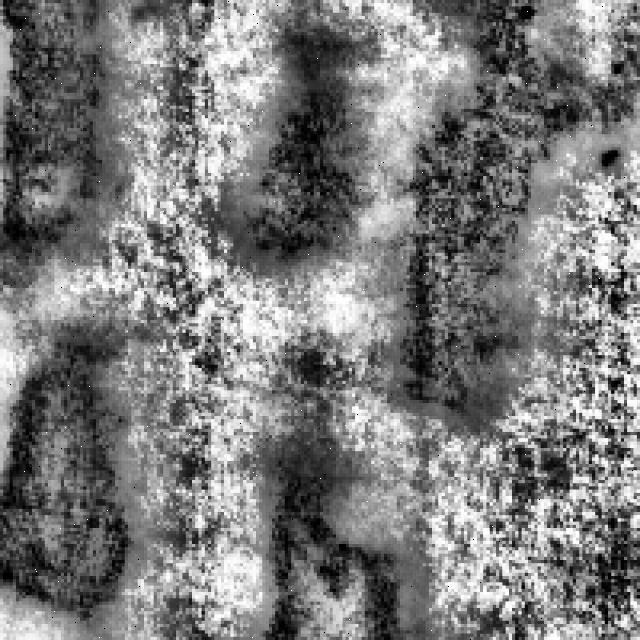Scratches: (400, 0, 611, 406), (3, 320, 141, 637), (237, 26, 384, 260), (260, 432, 422, 637), (4, 0, 122, 262)
